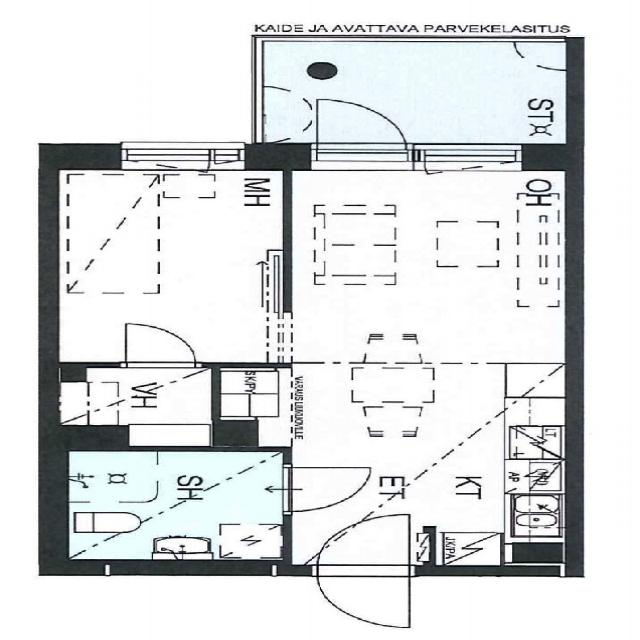door: (316, 93, 405, 170), (317, 566, 410, 628), (317, 514, 410, 576), (283, 467, 371, 511), (126, 323, 195, 367)
